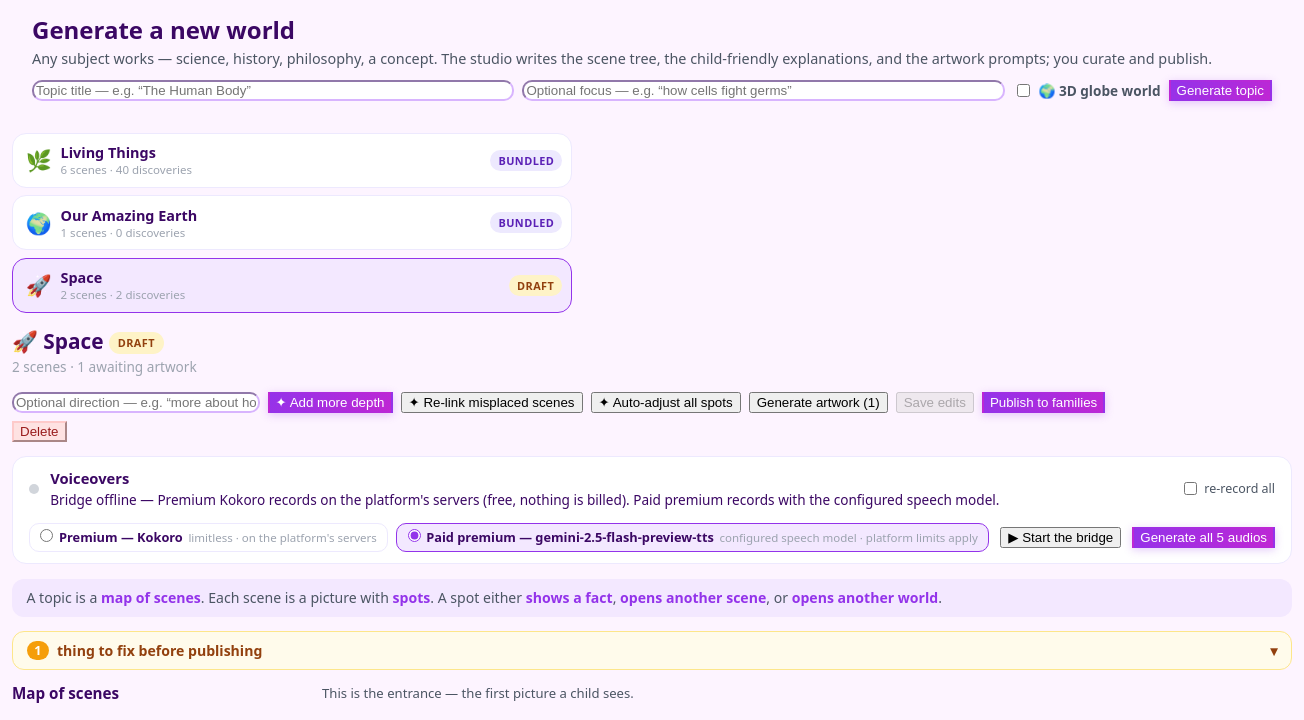
Scenario: WikidoStudio — voice engine picker (premium vs paid premium) › stopping the queue cancels server-side and keeps what was recorded
The width and height of the screenshot is (1304, 720).
Click the radio button labelled "Premium — Kokoro limitless · on the platform's servers".
click(47, 536)  # box [40, 529, 53, 542]
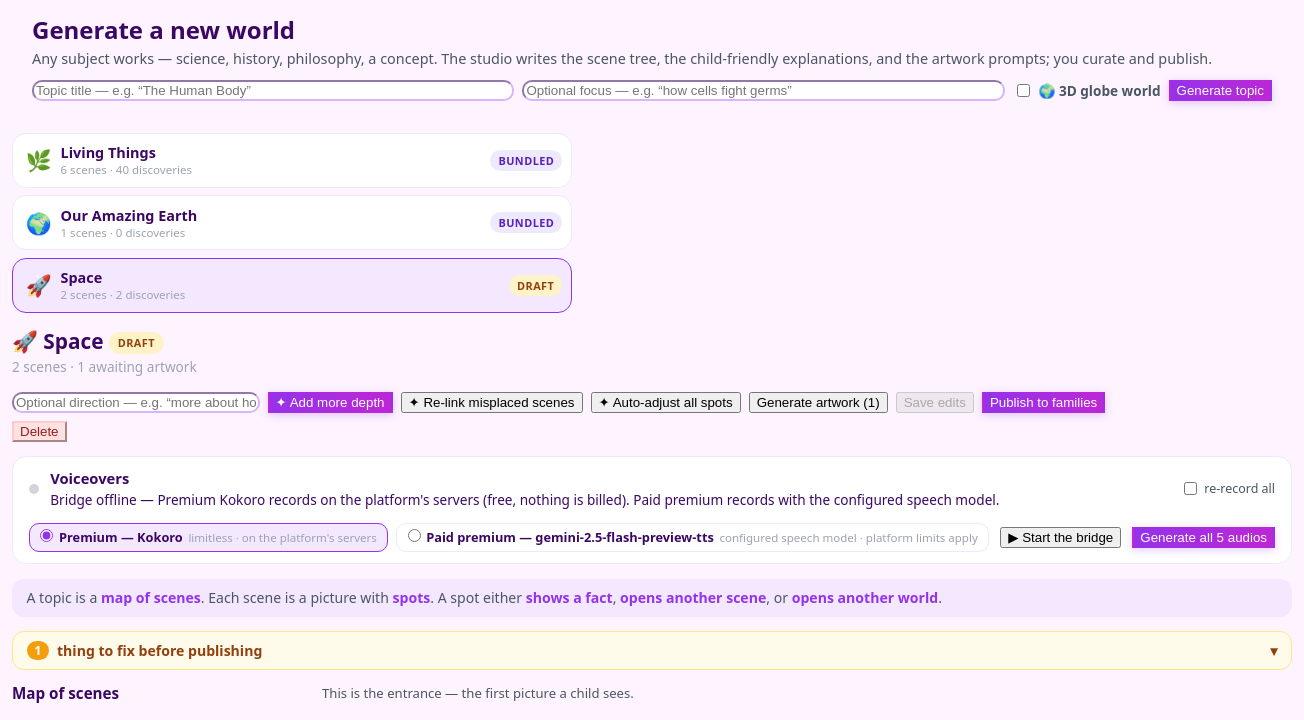
Click the button "Generate all 5 audios".
click(1204, 537)  # box [1132, 527, 1275, 548]
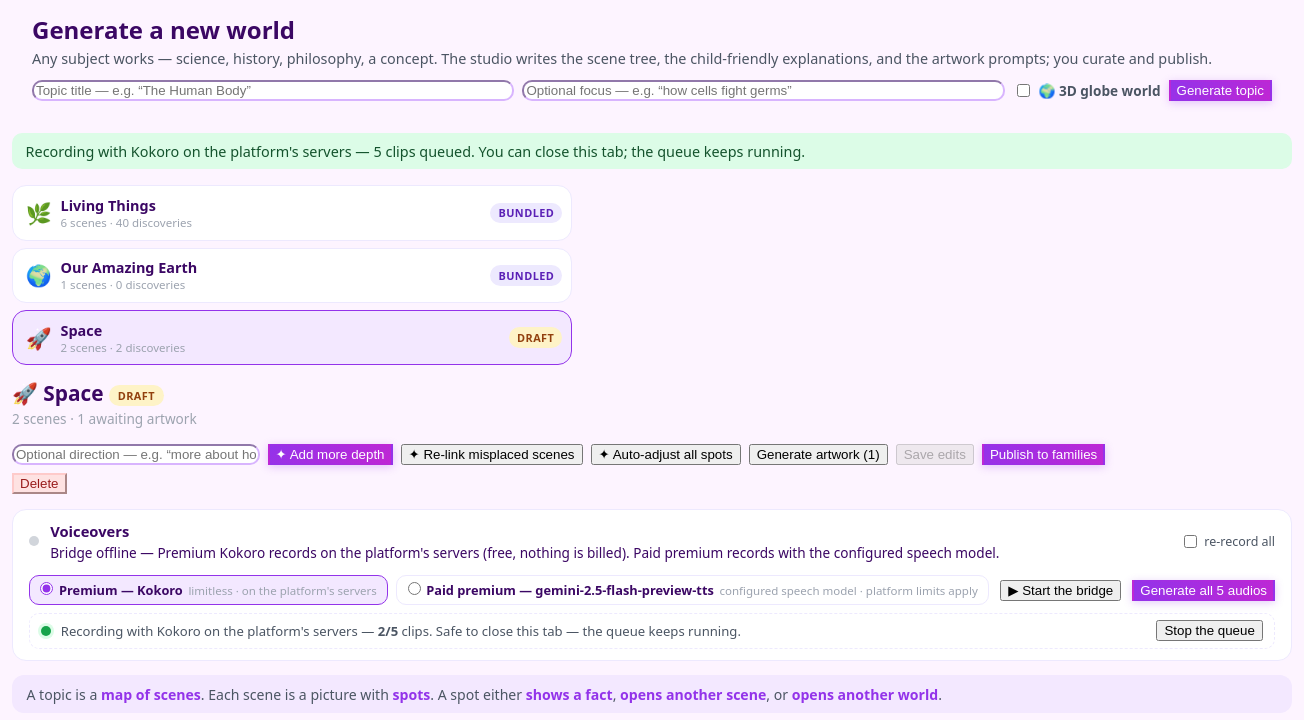
Expected: the text "2/5" is shown, [378, 622, 398, 640]
Click the button "Stop the queue".
click(1210, 631)  # box [1156, 620, 1263, 641]
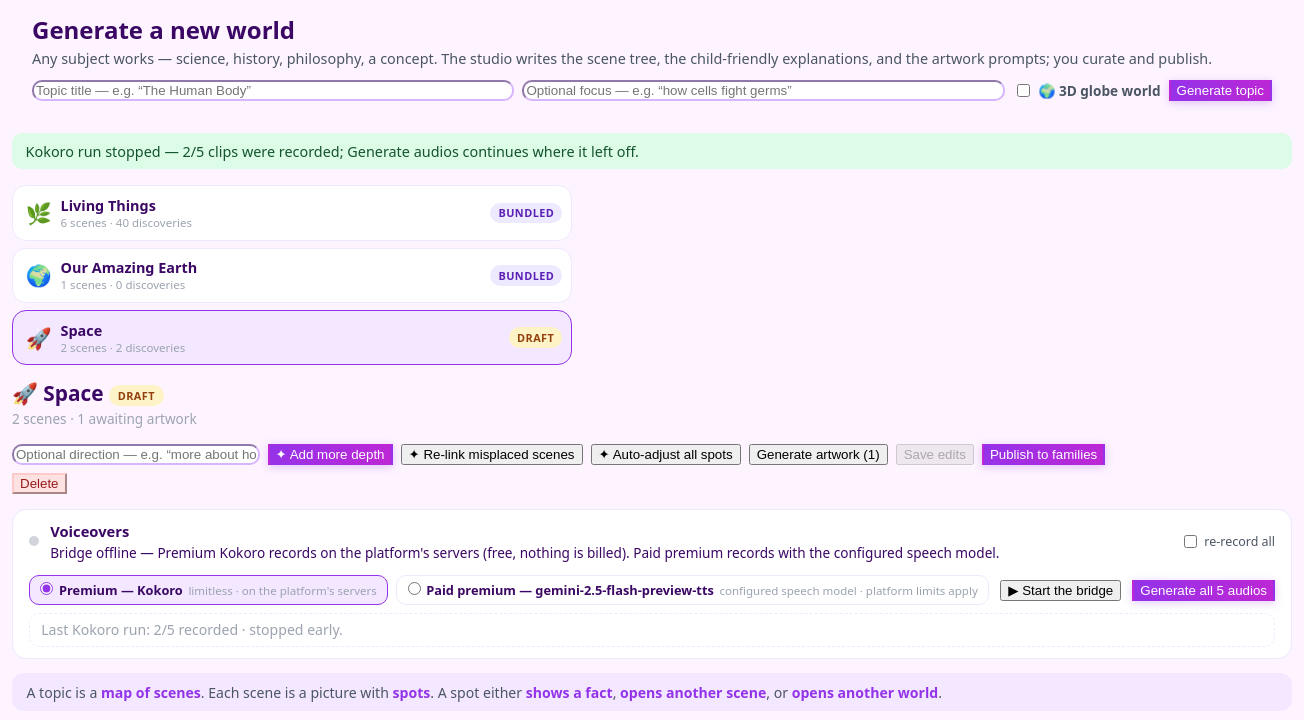
Expected: the text with class "note" shows "Kokoro run stopped — 2/5 clips were recorded", [26, 142, 639, 161]
Expected: the element showing "Last Kokoro run: 2/5 recorded · stopped early." is shown, [29, 613, 1275, 647]
